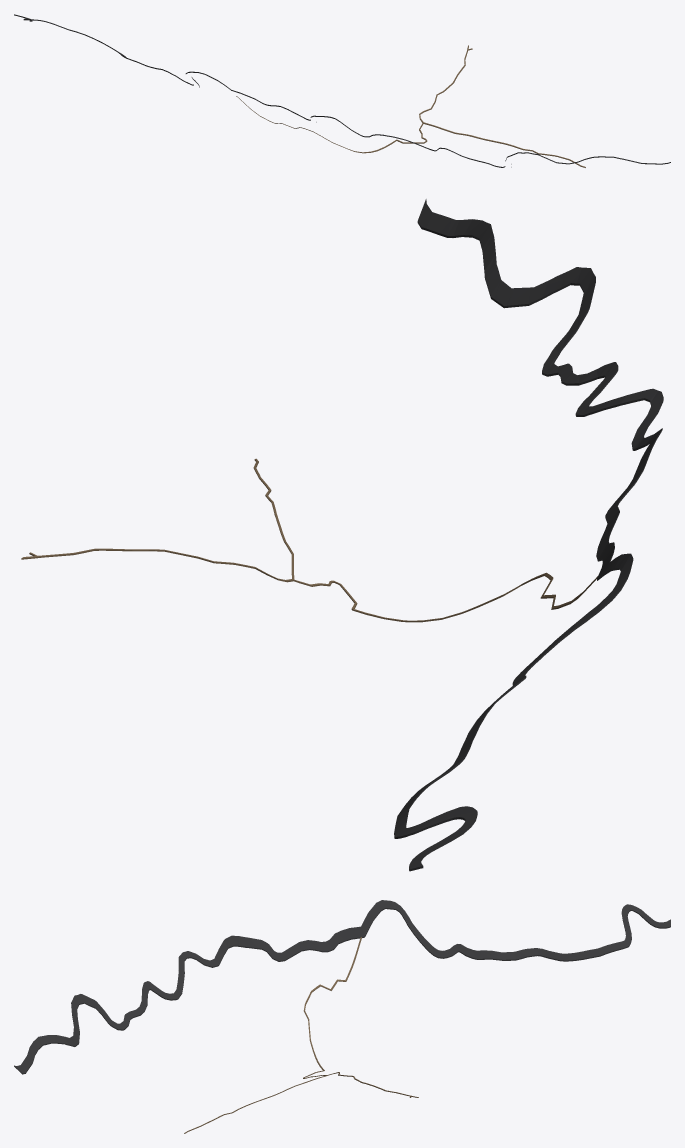
The model's file is 15-27372-14879.5dcdad43.glb.
3 views of the same model, one above another, from view 1: azimuth 30°, elevation 25°; view 2: azimuth 150°, elevation 25°; view 3: azimuth 270°, elevation 25° (orthographic). The views are drawn at different scales.
Bounding box in the file's own units: 398 × 107 × 678.
